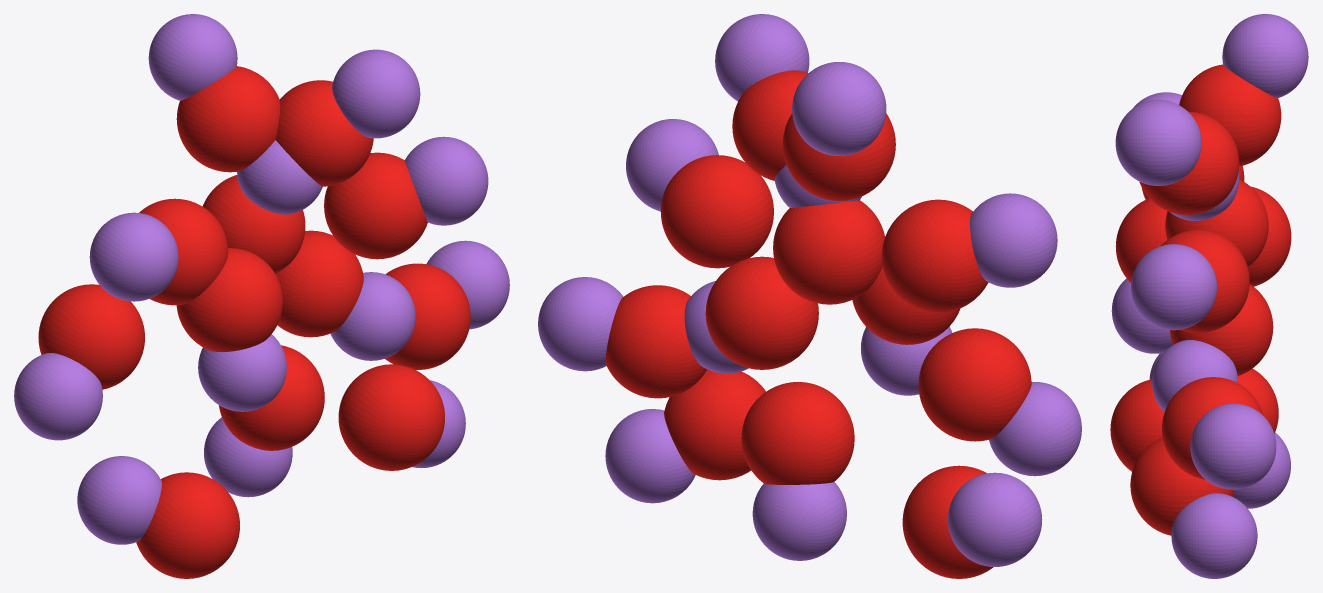
Rendered from sodium_hydroxide.glb.
3 views of the same model, side by side, from view 1: azimuth 30°, elevation 25°; view 2: azimuth 150°, elevation 25°; view 3: azimuth 270°, elevation 25° (orthographic). The views are drawn at different scales.
Visible parts, largest first — view 1: Oxygen_O_10, Oxygen_O_08, Oxygen_O_11, Oxygen_O_03, Oxygen_O_04, Oxygen_O_05, Oxygen_O_06, Oxygen_O_12, Sodium_Na_01, Sodium_Na_04, Sodium_Na_12, Sodium_Na_08 (+12 smaller); view 2: Oxygen_O_03, Oxygen_O_04, Oxygen_O_09, Oxygen_O_02, Oxygen_O_06, Oxygen_O_01, Oxygen_O_07, Oxygen_O_10, Sodium_Na_11, Sodium_Na_08, Sodium_Na_01, Sodium_Na_09 (+12 smaller); view 3: Sodium_Na_07, Sodium_Na_03, Sodium_Na_12, Sodium_Na_10, Oxygen_O_11, Sodium_Na_11, Oxygen_O_12, Oxygen_O_10, Oxygen_O_07, Oxygen_O_03, Oxygen_O_06, Oxygen_O_02 (+9 smaller).
Boxes of the visible parts, x1,y1,x2,y2 form: Oxygen_O_10: (338,364,444,470); Oxygen_O_08: (136,472,239,578); Oxygen_O_11: (176,66,280,172); Oxygen_O_03: (324,152,427,259); Oxygen_O_04: (38,284,144,389); Oxygen_O_05: (176,248,282,351); Oxygen_O_06: (275,230,363,337); Oxygen_O_12: (275,80,373,186); Sodium_Na_01: (89,212,178,301); Sodium_Na_04: (14,353,102,440); Sodium_Na_12: (332,49,420,138); Sodium_Na_08: (77,456,161,544); Oxygen_O_03: (660,155,773,268); Oxygen_O_04: (918,328,1031,441); Oxygen_O_09: (741,382,854,484); Oxygen_O_02: (773,200,884,304); Oxygen_O_06: (705,256,818,369); Oxygen_O_01: (882,199,988,312); Oxygen_O_07: (605,285,706,398); Oxygen_O_10: (664,369,765,480); Sodium_Na_11: (792,62,886,156); Sodium_Na_08: (948,472,1042,566); Sodium_Na_01: (970,193,1057,287); Sodium_Na_09: (752,482,846,560); Sodium_Na_07: (1190,403,1276,489); Sodium_Na_03: (1131,244,1216,330); Sodium_Na_12: (1115,100,1201,185); Sodium_Na_10: (1171,493,1257,578); Oxygen_O_11: (1179,64,1281,166); Sodium_Na_11: (1222,14,1308,97); Oxygen_O_12: (1139,111,1239,214); Oxygen_O_10: (1130,437,1233,535); Oxygen_O_07: (1162,377,1263,479); Oxygen_O_03: (1160,230,1249,332); Oxygen_O_06: (1170,284,1273,375); Oxygen_O_02: (1165,179,1268,266).
Bounding box in the file's own units: 2.99 × 2.92 × 1.08.
